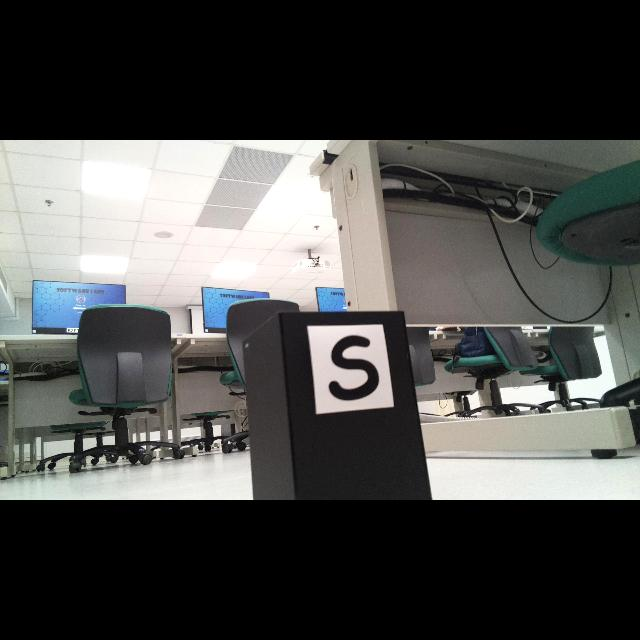S: (329, 336, 380, 401)
